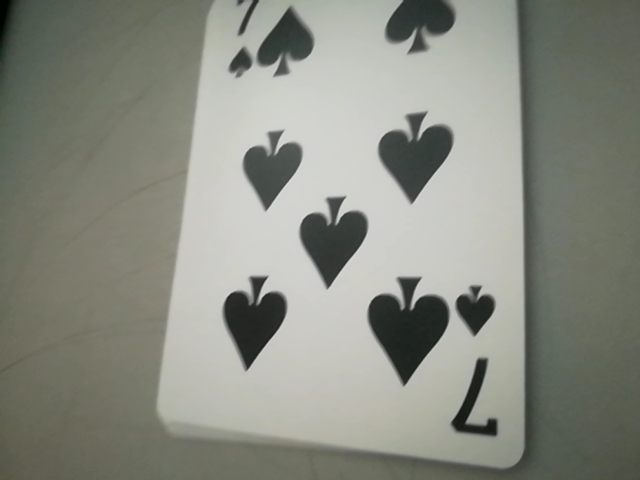ht 7: (453, 282, 511, 441)
